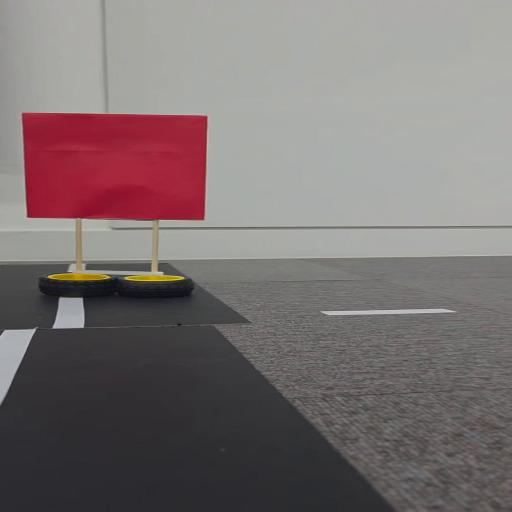Sign_A: (16, 108, 207, 306)
